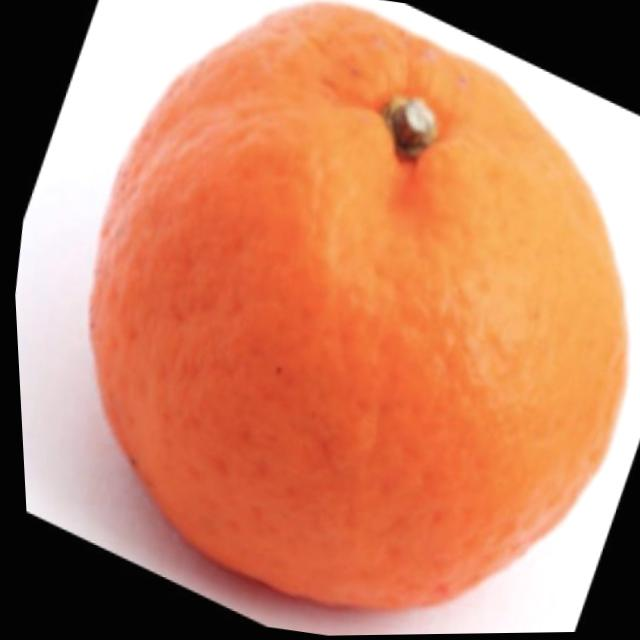Orange: (30, 0, 640, 640)
